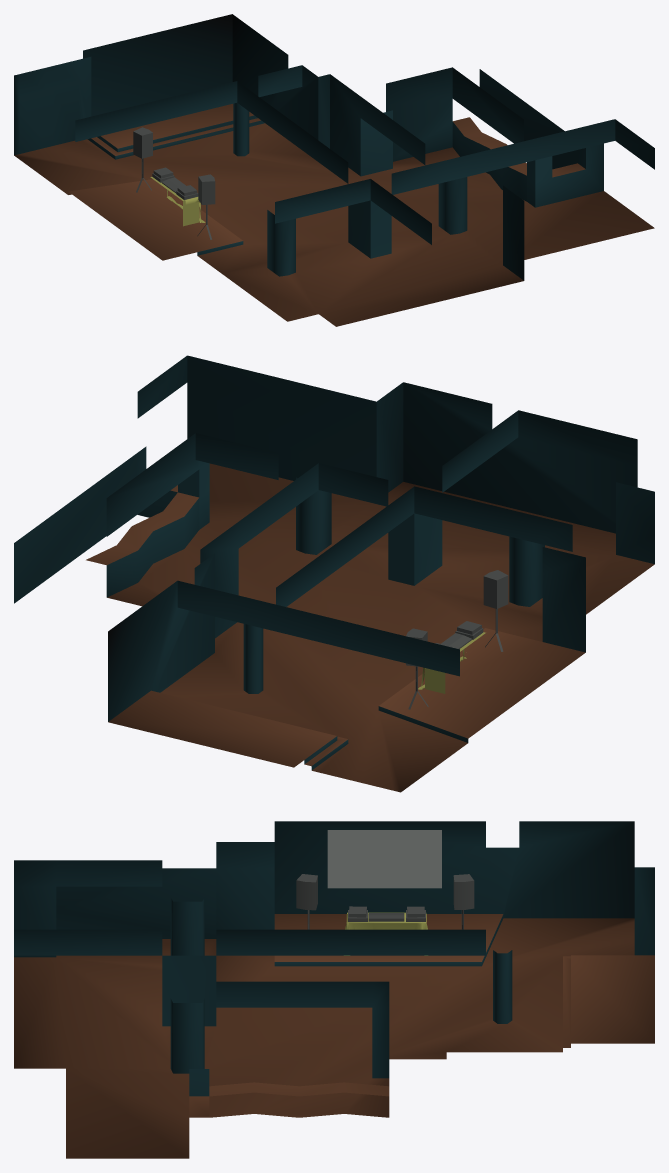
The model's file is MainBarAreaRecolour.glb.
3 renders of one model, top to bottom at view 1: azimuth 30°, elevation 25°; view 2: azimuth 150°, elevation 25°; view 3: azimuth 270°, elevation 25°, orthographic. The views are drawn at different scales.
Visible parts, largest first — view 1: ROOM, DECKS, LOUDSPEAKER1, DJTABLE, LOUDSPEAKER2; view 2: ROOM, LOUDSPEAKER2, DECKS, DJTABLE; view 3: ROOM, PANEL, DECKS, LOUDSPEAKER2, LOUDSPEAKER1, DJTABLE.
Part boxes in pixels (x1,y1,x2,y2): ROOM: (14, 14, 654, 326); DECKS: (152, 167, 198, 200); LOUDSPEAKER1: (133, 127, 152, 192); DJTABLE: (150, 177, 205, 226); LOUDSPEAKER2: (197, 174, 215, 239); ROOM: (14, 355, 654, 792); LOUDSPEAKER2: (483, 570, 508, 651); DECKS: (435, 621, 483, 649); DJTABLE: (418, 632, 485, 693); ROOM: (14, 821, 654, 1158); PANEL: (327, 830, 441, 888); DECKS: (348, 906, 425, 921); LOUDSPEAKER2: (296, 874, 317, 929); LOUDSPEAKER1: (453, 874, 474, 929); DJTABLE: (344, 912, 427, 955).
Bounding box in the file's own units: 15.97 × 3 × 18.01.
